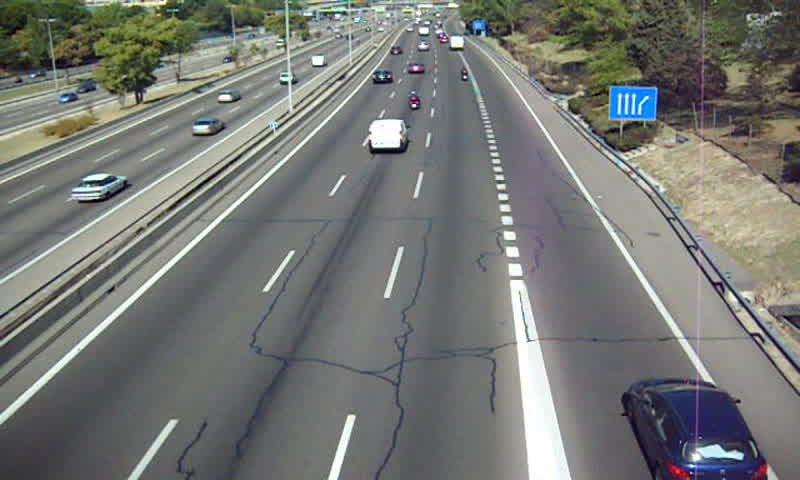car: (626, 377, 767, 480), (370, 68, 394, 86), (406, 63, 424, 76)
motorcycle: (405, 90, 421, 112), (460, 67, 470, 85)
van: (367, 119, 407, 154), (450, 34, 464, 52)
